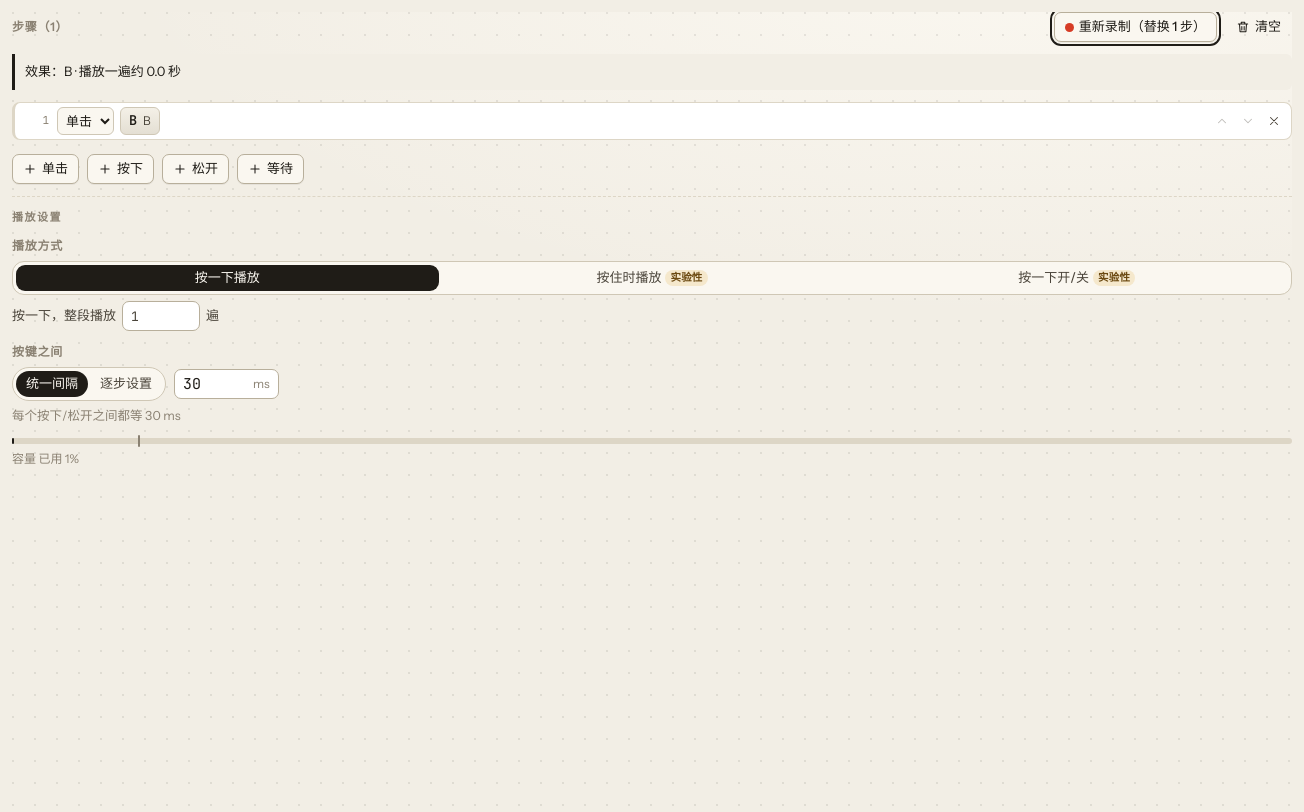
MacroEditor recording › keeps the existing steps when the two Esc presses are all that was pressed
Click the button "重新录制（替换 1 步）" at coordinates (1135, 27), box left=1054, top=12, right=1217, bottom=42
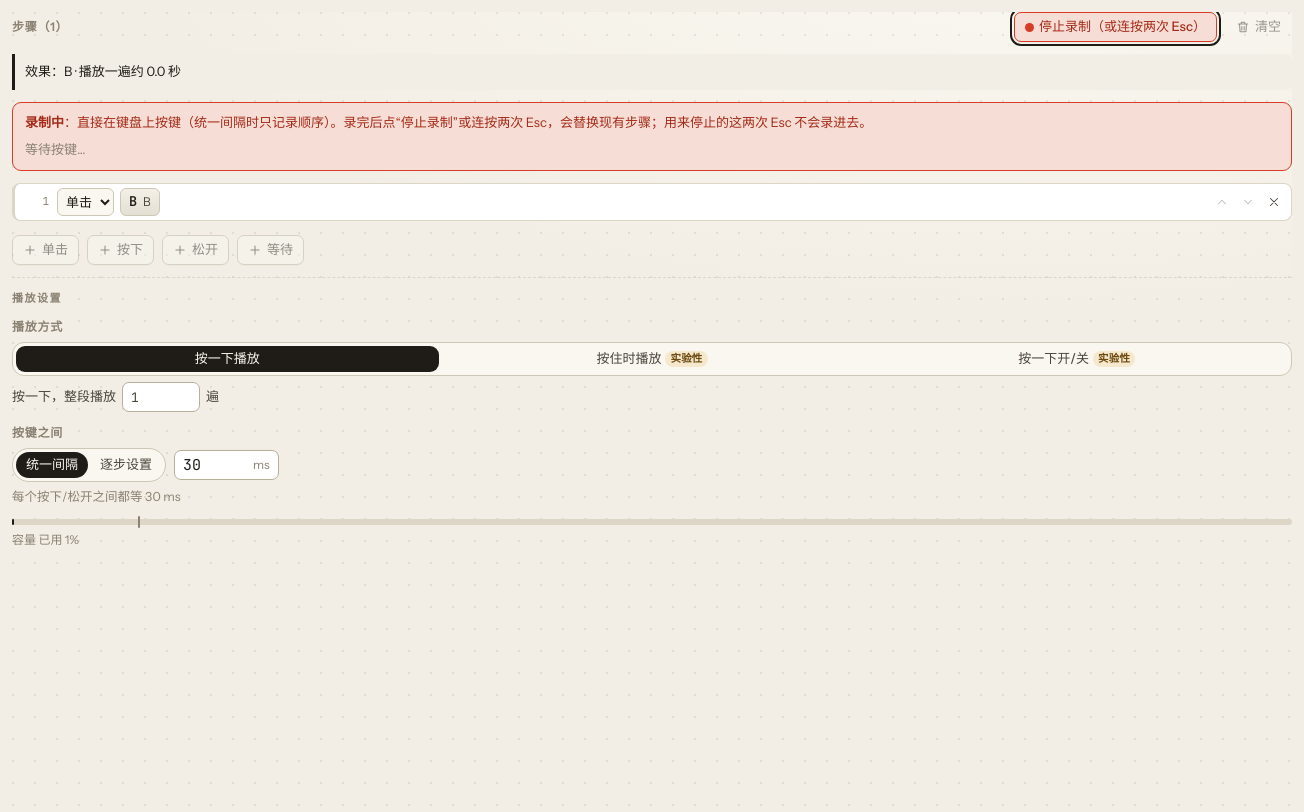
Press Escape in the button named "重新录制（替换 1 步）", box left=1014, top=12, right=1217, bottom=42
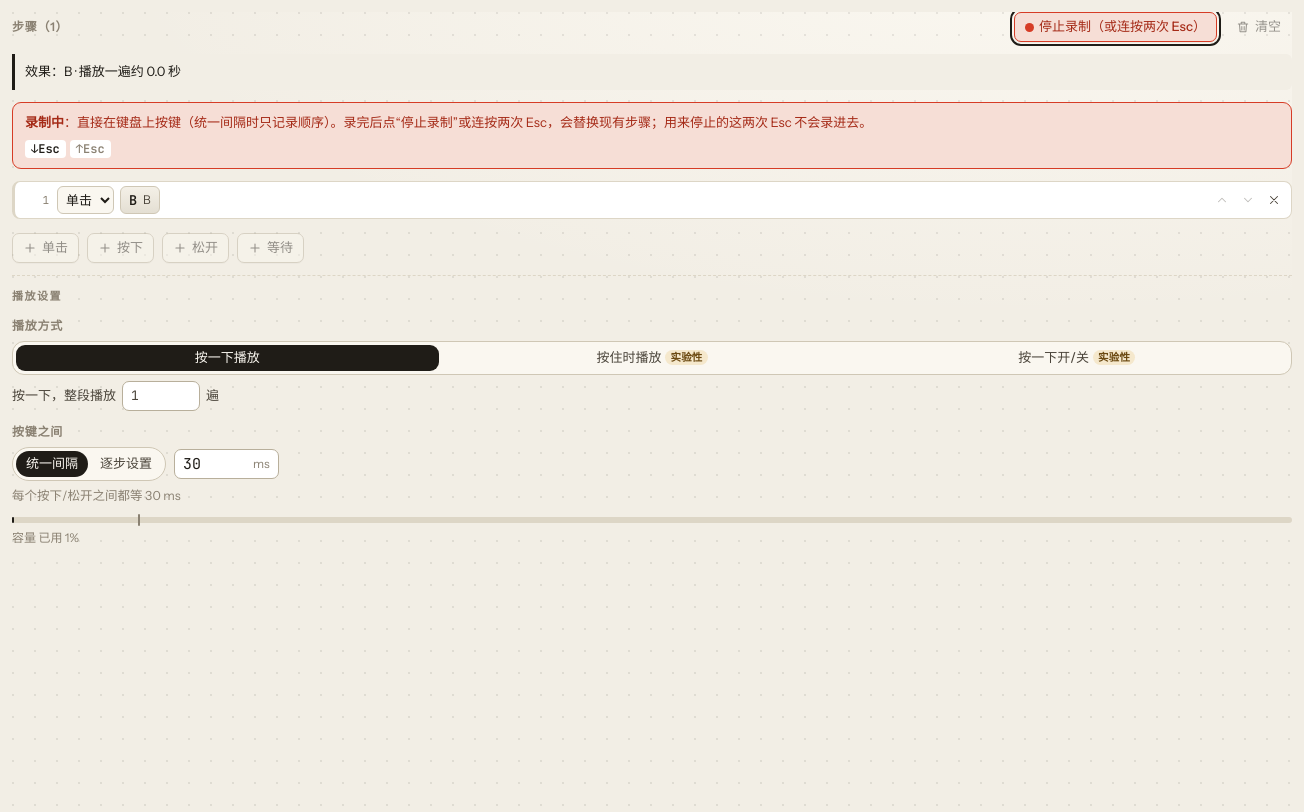
Press Escape in the button named "重新录制（替换 1 步）", box left=1014, top=12, right=1217, bottom=42
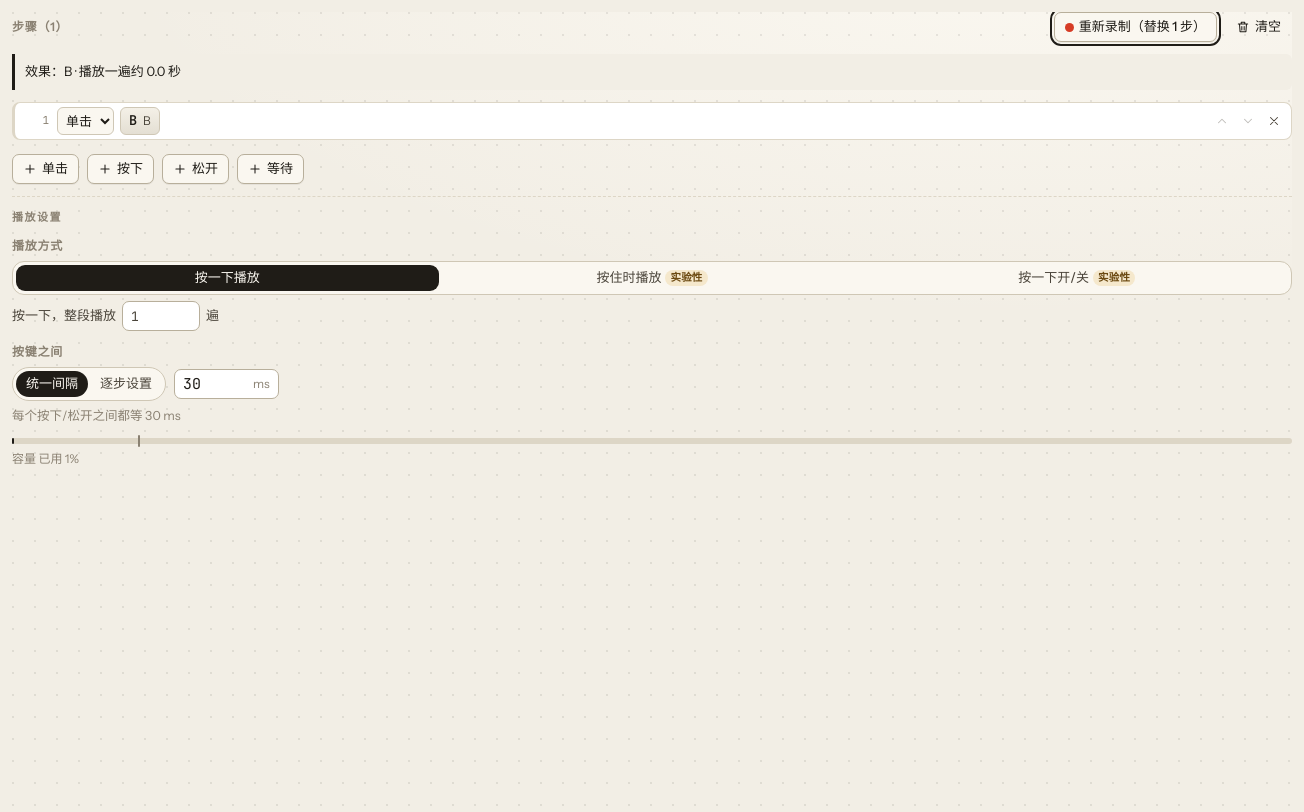
Now the button "重新录制（替换 1 步）" is shown, box left=1054, top=12, right=1217, bottom=42
